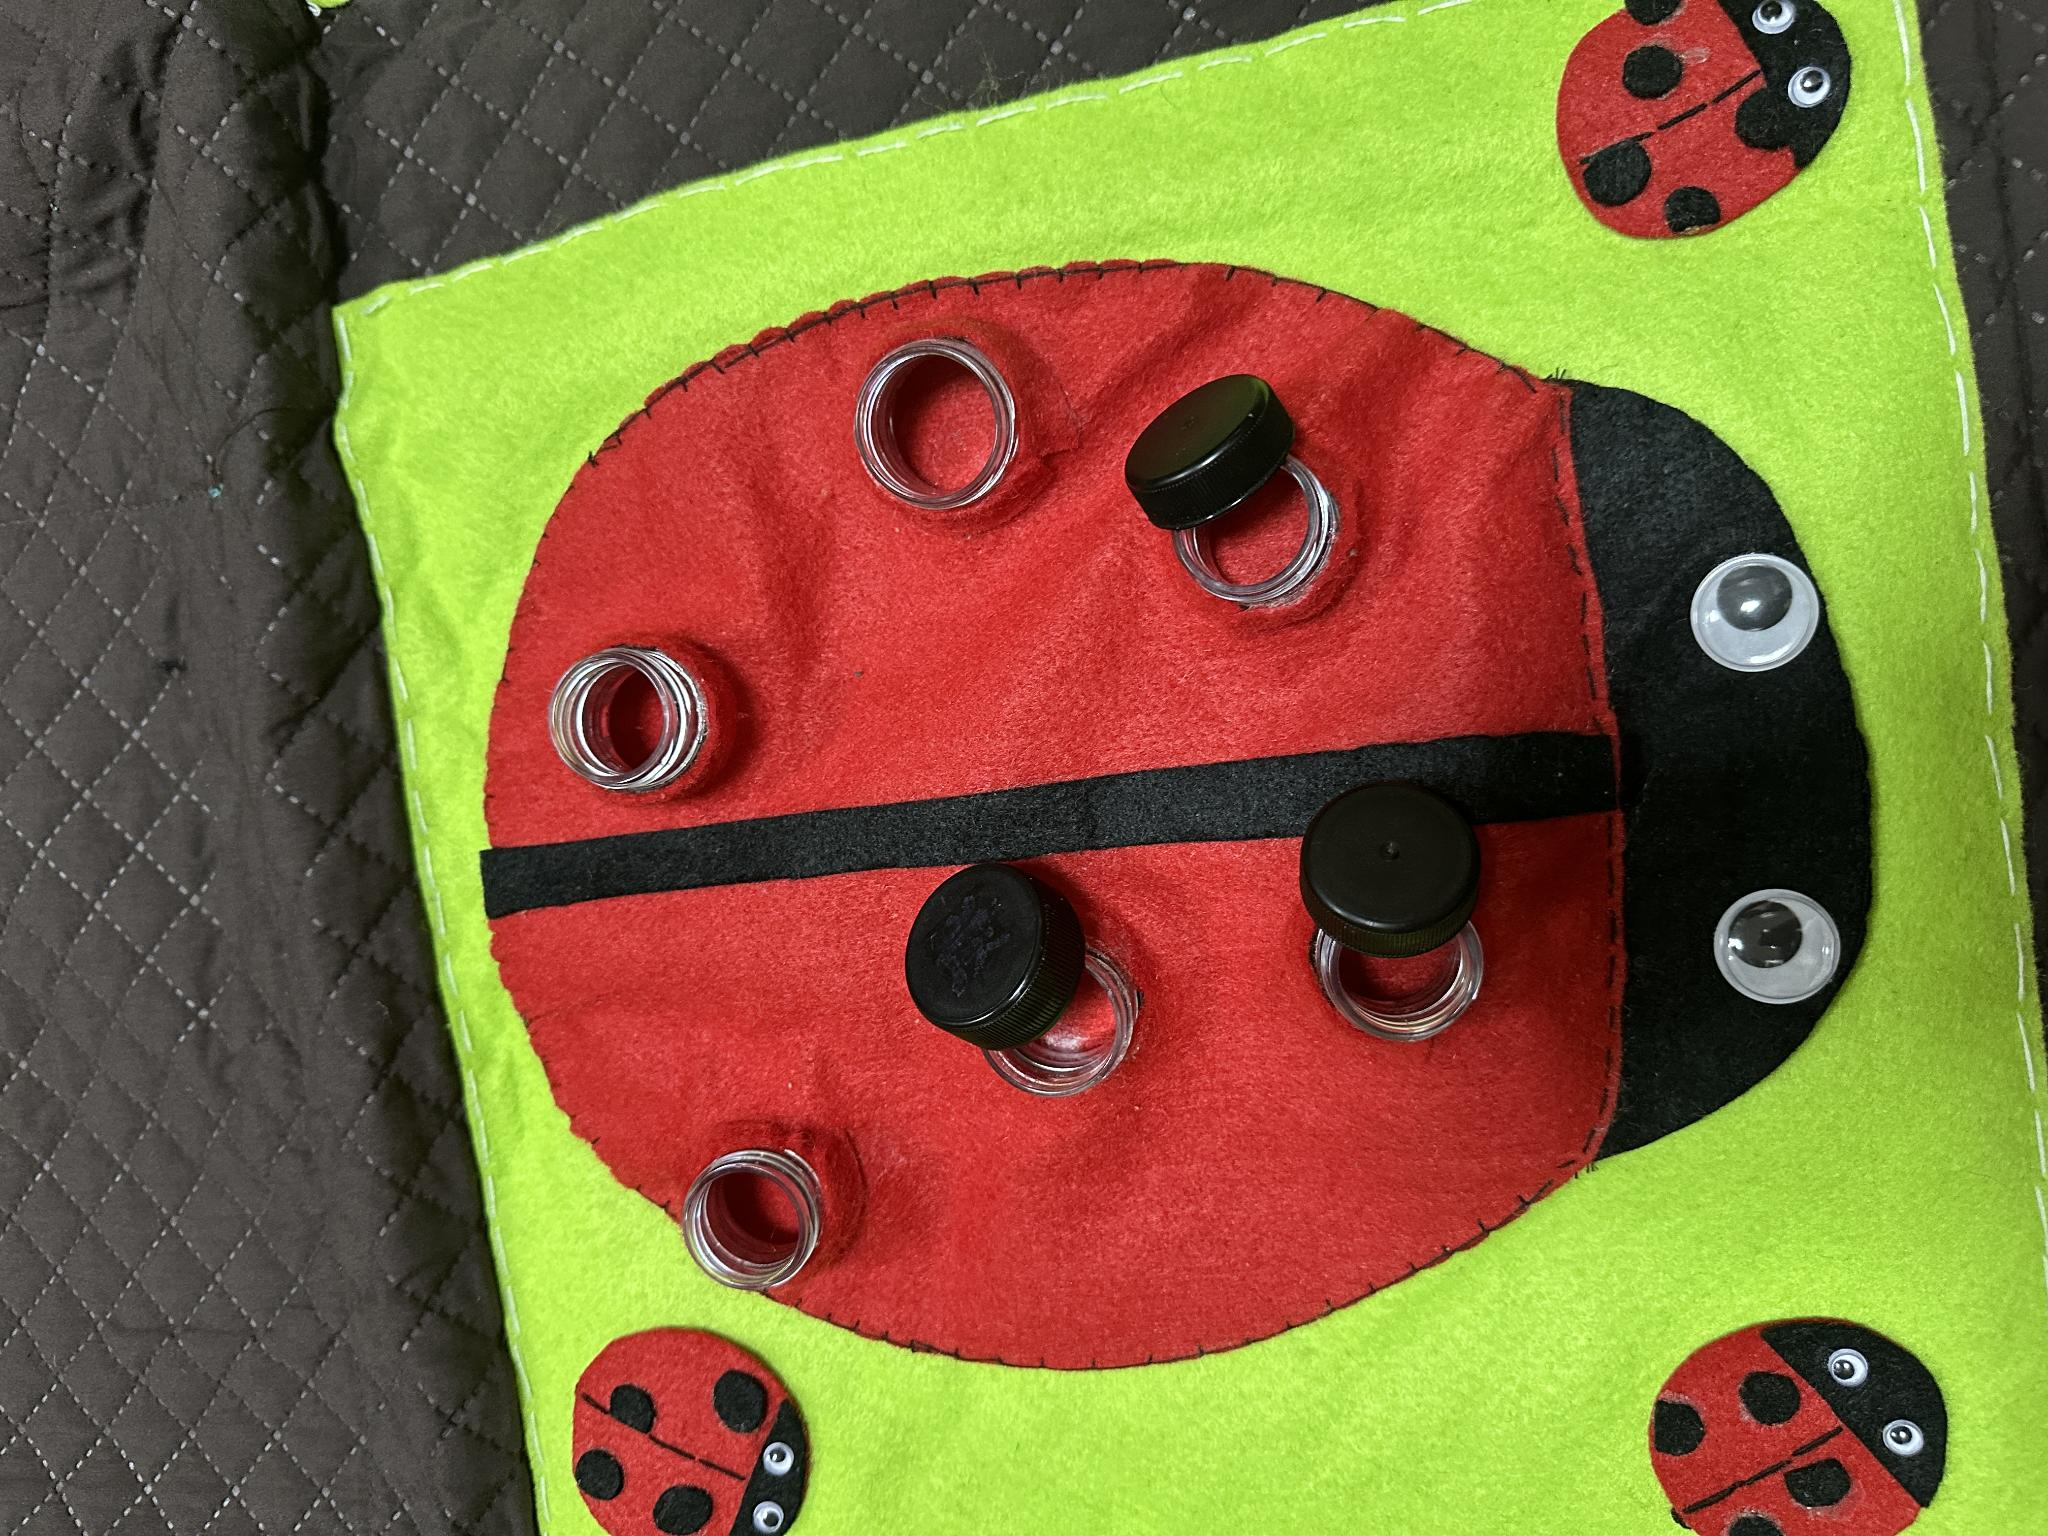cap_ng: (1105, 360, 1384, 649), (898, 854, 1164, 1126), (1298, 771, 1503, 1076)
